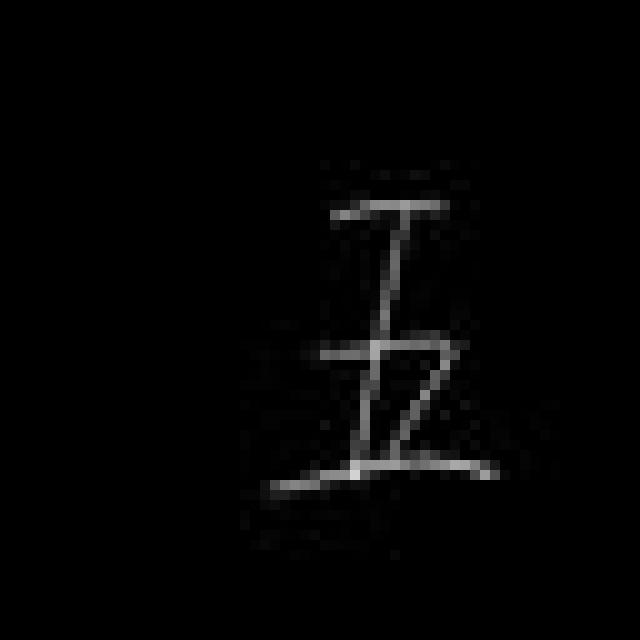5 -five-: (270, 188, 506, 501)
